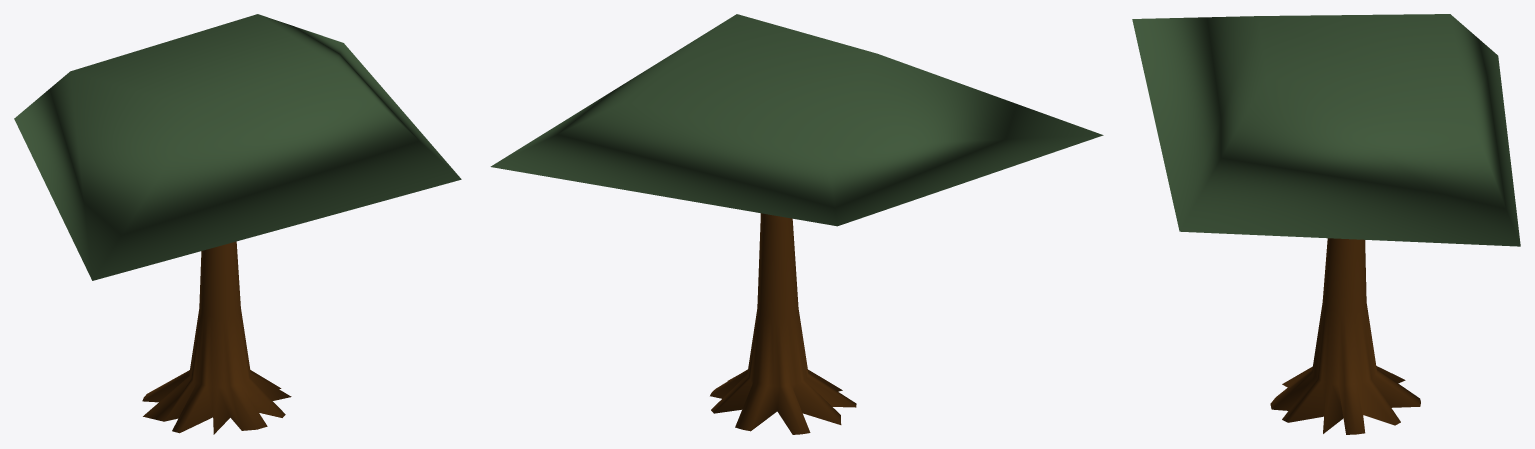
The model's file is Tree3.fbx.
The picture shows the model from 3 angles, left to right: view 1: azimuth 30°, elevation 25°; view 2: azimuth 150°, elevation 25°; view 3: azimuth 270°, elevation 25°; orthographic projection. The views are drawn at different scales.
Parts seen in each view (by area): view 1: Cube, Cylinder; view 2: Cube, Cylinder; view 3: Cube, Cylinder.
Part boxes in pixels (bbox=[...]): Cube: bbox=[14, 14, 461, 280]; Cylinder: bbox=[142, 241, 291, 434]; Cube: bbox=[490, 14, 1103, 226]; Cylinder: bbox=[710, 213, 856, 434]; Cube: bbox=[1132, 14, 1520, 246]; Cylinder: bbox=[1270, 238, 1420, 434].
Size of the model in its own units: 5693 by 4333 by 4173.
Materials: 3 (3 with a texture image).
